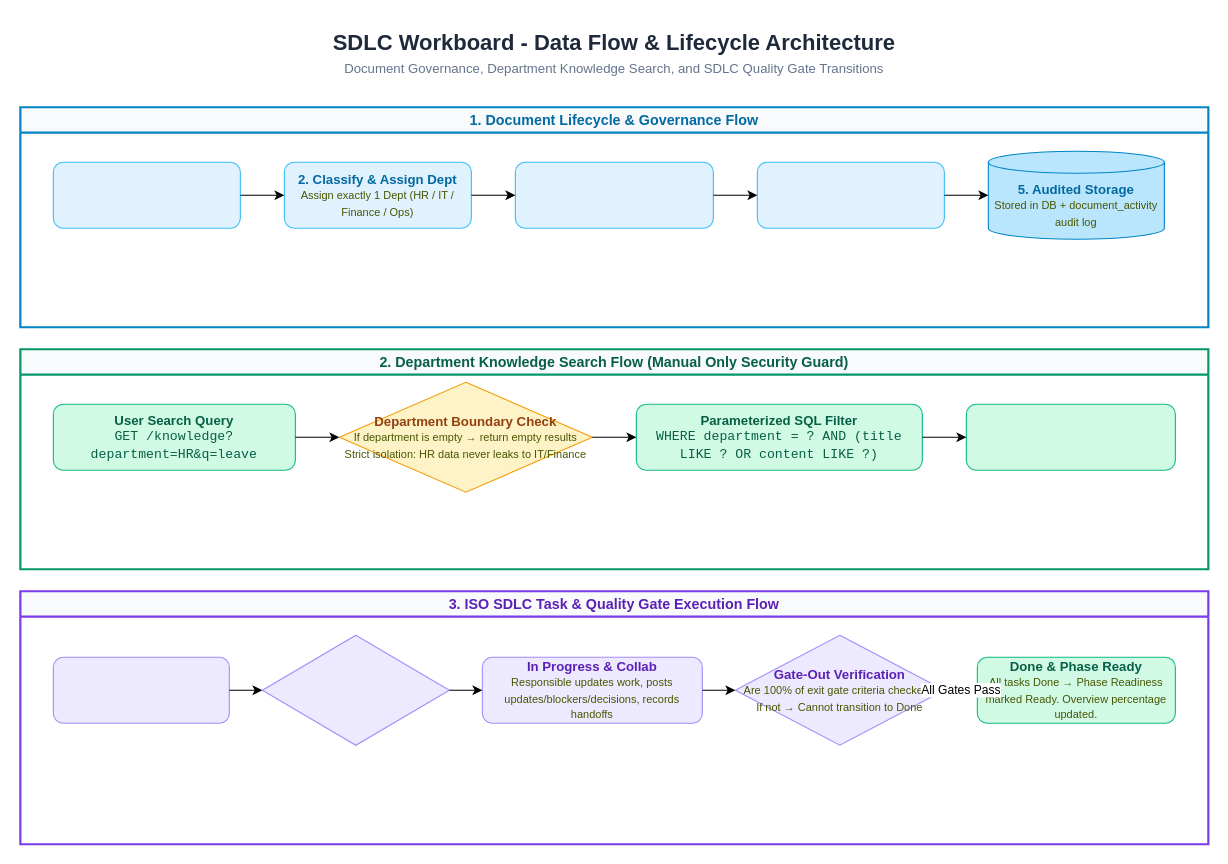
This 1228x864 diagram has some shape labels left out. The centre of each missing label's shape, as x and y in pixels:
1. Register Document Title, Type, Source/Path, Owner Role, Version: the point at 146,194
3. Review & Approval Status: Draft → Under Review → Approved (Approver logged): the point at 613,194
4. Indexing State Not Indexed → Ready (or Needs Review): the point at 850,194
Backlog / Intake Task created with Phase, Accountable & Responsible roles: the point at 140,689
Gate-In Verification Check prerequisite inputs & entry criteria: the point at 355,689
Manual Render Only Auto-escaped HTML render AI Provider: NONE (Zero API egress): the point at 1070,436
